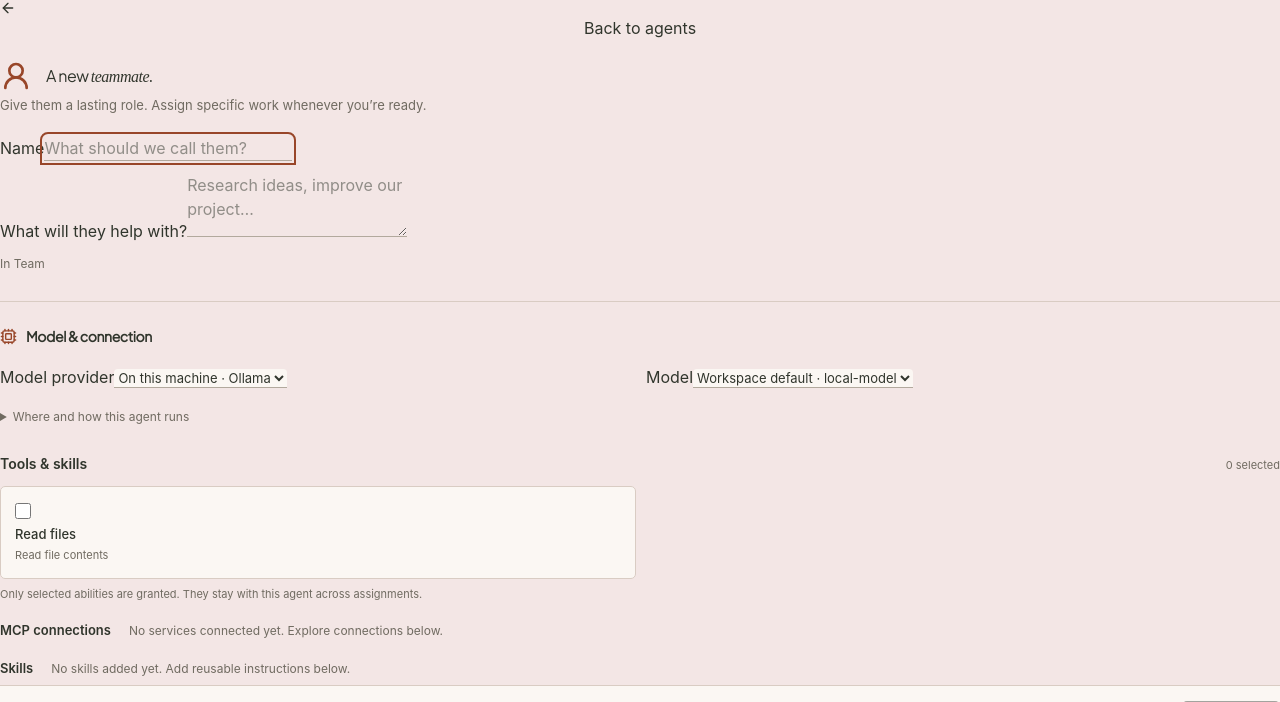
respects a host-managed catalog and does not offer an ineffective add action
This screenshot has width=1280, height=702.
Check: the field labelled "Name" is shown, box left=44, top=136, right=292, bottom=160
Click the checkbox labelled "Read files".
click(23, 510)  # box left=15, top=502, right=31, bottom=518
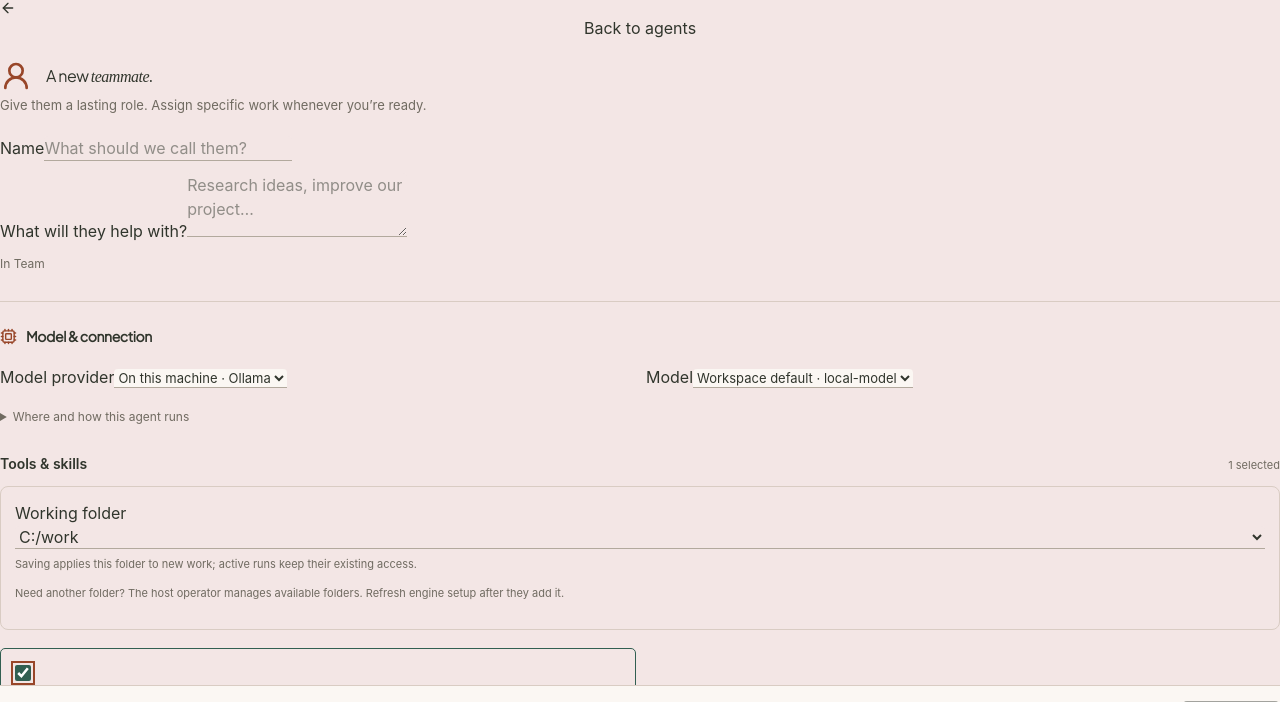
Check: the text "The host operator manages available folders" is shown, box left=15, top=586, right=564, bottom=600
